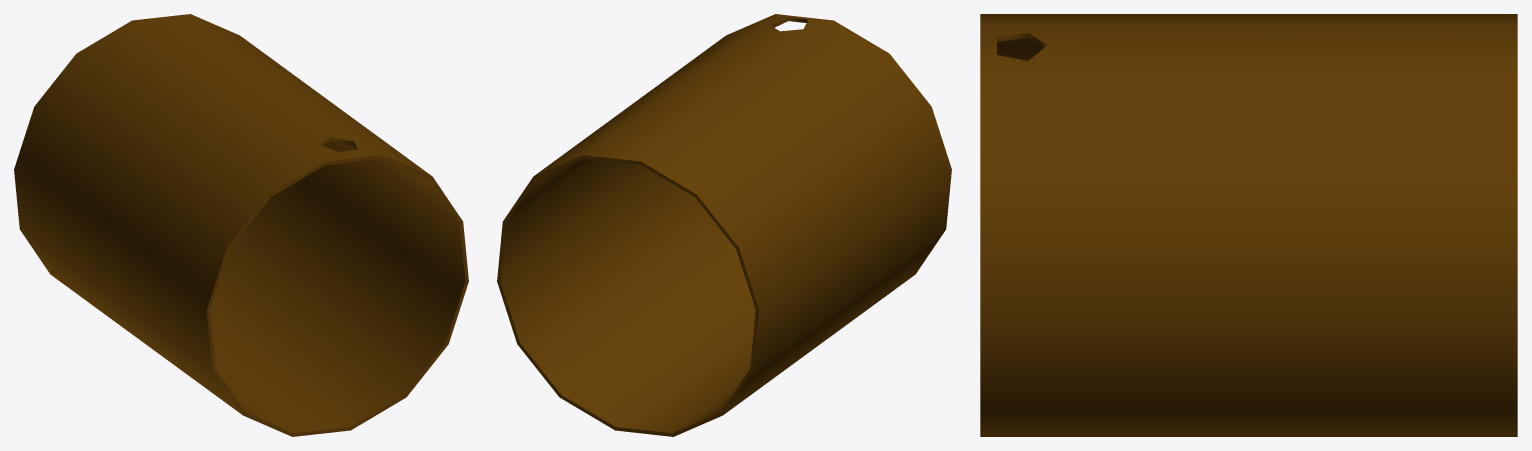
File: Cylindre barillet_Heures.obj
3 views of the same model, side by side, from view 1: azimuth 30°, elevation 25°; view 2: azimuth 150°, elevation 25°; view 3: azimuth 270°, elevation 25° (orthographic). The views are drawn at different scales.
Visible parts, largest first — view 1: Face_2, Face_1, Face_4; view 2: Face_2, Face_1, Face_3; view 3: Face_2, Face_1.
Part boxes in pixels (box(x1,y1,x2,y2)): Face_2: box(14, 14, 431, 414); Face_1: box(210, 141, 465, 433); Face_4: box(206, 155, 468, 436); Face_2: box(534, 14, 951, 414); Face_1: box(500, 159, 755, 433); Face_3: box(497, 155, 759, 436); Face_2: box(980, 14, 1517, 436); Face_1: box(997, 37, 1043, 60).
Bounding box in the file's own units: 0.0377 × 0.0379 × 0.048.
